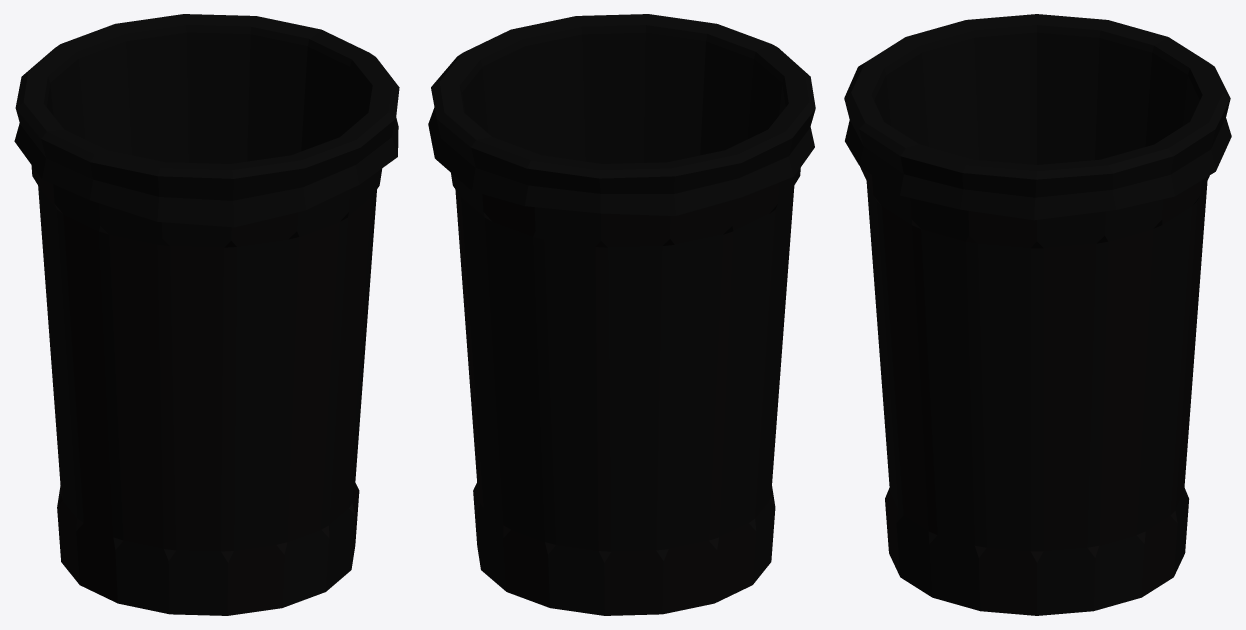
File: Trashcann.glb
The picture shows the model from 3 angles, left to right: view 1: azimuth 30°, elevation 25°; view 2: azimuth 150°, elevation 25°; view 3: azimuth 270°, elevation 25°; orthographic projection.
Visible parts, largest first — view 1: mesh_id6, mesh_id5; view 2: mesh_id6, mesh_id5; view 3: mesh_id6, mesh_id5.
Boxes of the visible parts, x1,y1,x2,y2 form: mesh_id6: (31,165,382,615); mesh_id5: (14,14,399,227); mesh_id6: (451,167,800,615); mesh_id5: (428,14,815,215); mesh_id6: (860,166,1209,615); mesh_id5: (844,14,1231,220).
Bounding box in the file's own units: 0.3893 × 0.512 × 0.3903.
2 materials, 2 textured.
